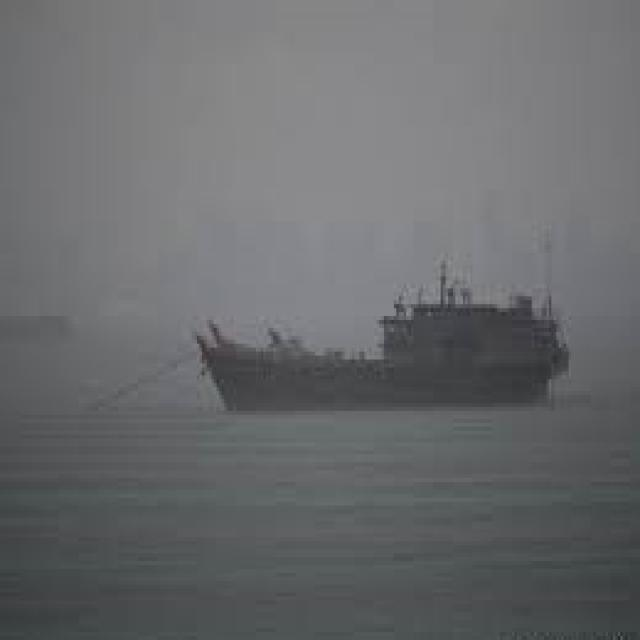fishing boat: (196, 261, 575, 424)
